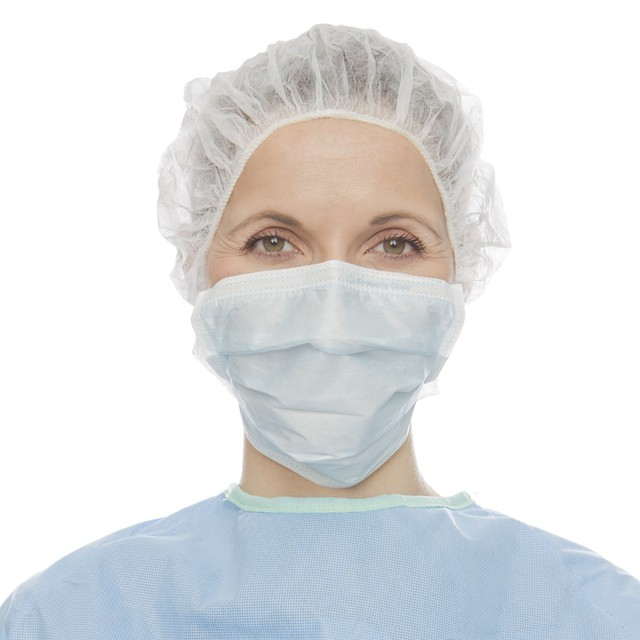mask: (193, 277, 451, 477)
